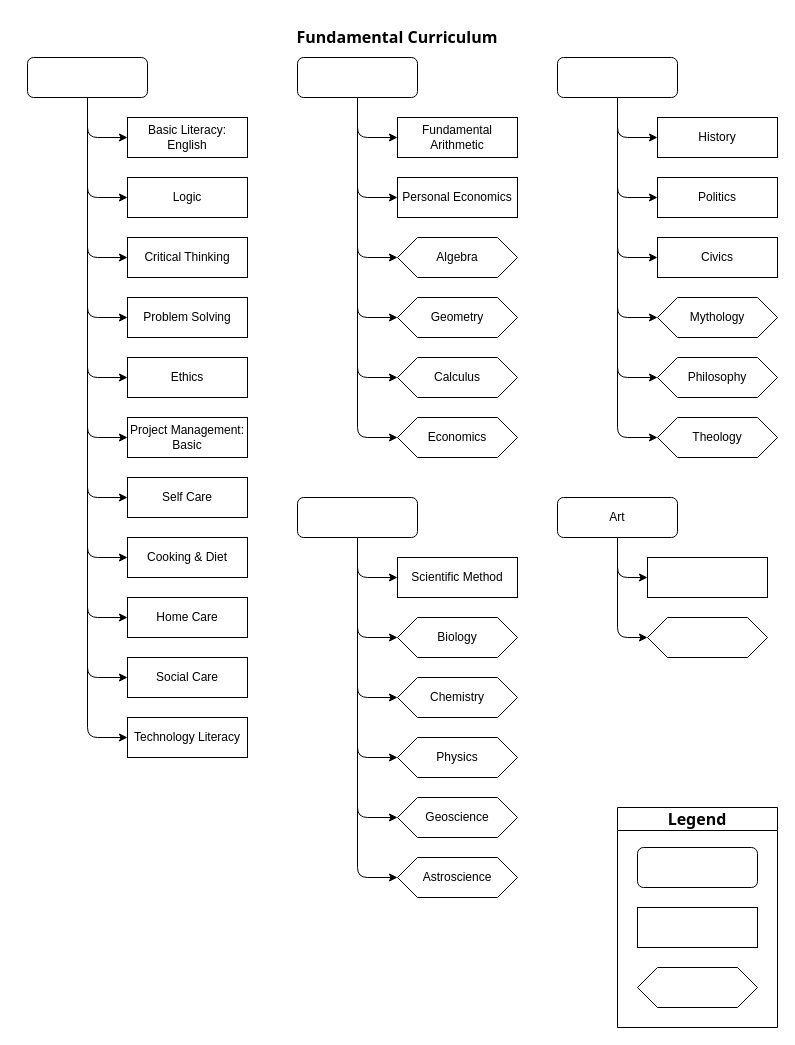
The diagram is 795 pixels wide and 1045 high, and some of its shapes have lost their labels. The shapes that lost their labels are listed below. From the top down, each one's centre as x and y in pixels, then its label:
At [87,77]: "Fundamental Skills".
At [357,77]: "Mathematics".
At [617,77]: "Sociology".
At [357,517]: "Sciences".
At [707,577]: "Basics of Art".
At [707,637]: "Art History".
At [697,867]: "Subject Area".
At [697,927]: "Tier 1 Course".
At [697,987]: "Tier 2 Course".
